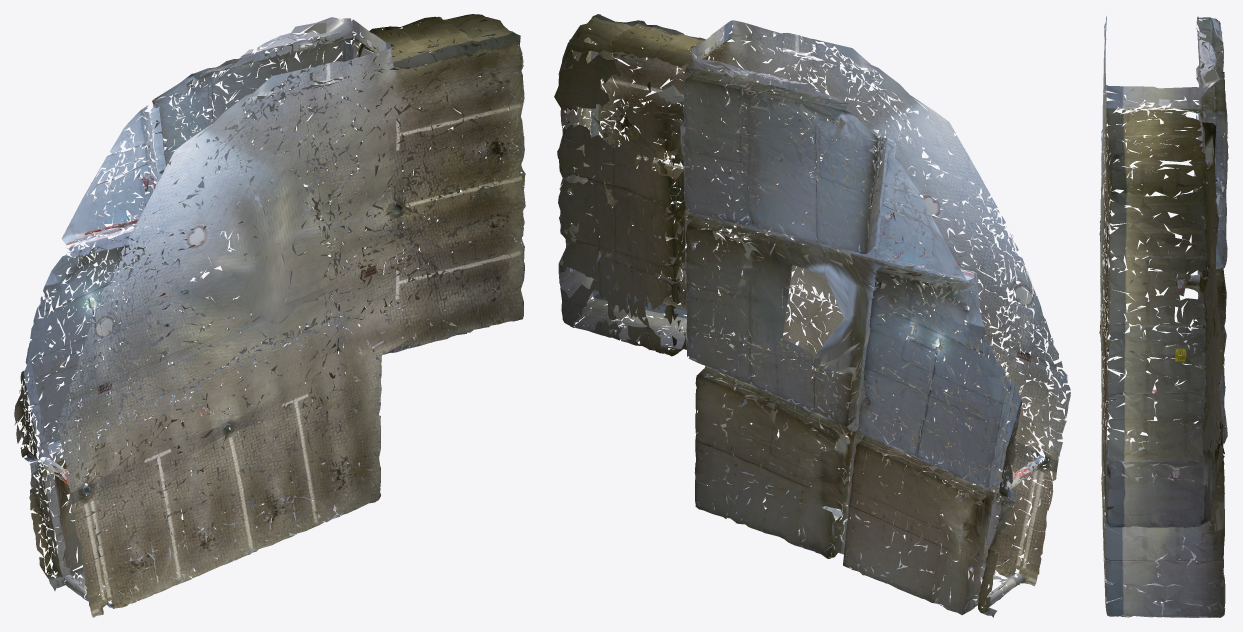
Rendered from parking-garage.glb.
3 renders of one model, left to right at view 1: azimuth 30°, elevation 25°; view 2: azimuth 150°, elevation 25°; view 3: azimuth 270°, elevation 25°, orthographic. The views are drawn at different scales.
Visible parts, largest first — view 1: Object_3, Object_2, Object_6, Object_7, Object_4, Object_8, Object_5, Object_9; view 2: Object_4, Object_3, Object_2, Object_6, Object_7, Object_8, Object_5, Object_9; view 3: Object_2, Object_6, Object_4, Object_3, Object_7, Object_8, Object_5, Object_9.
Boxes of the visible parts, box(x1,y1,x2,y2) form: Object_3: box(20, 32, 524, 593); Object_2: box(16, 16, 525, 617); Object_6: box(14, 14, 523, 608); Object_7: box(25, 24, 524, 602); Object_4: box(20, 22, 524, 594); Object_8: box(21, 21, 525, 601); Object_5: box(23, 19, 518, 606); Object_9: box(16, 16, 524, 607); Object_4: box(558, 18, 1070, 612); Object_3: box(557, 33, 1067, 607); Object_2: box(554, 23, 1070, 614); Object_6: box(559, 20, 1066, 617); Object_7: box(562, 14, 1065, 612); Object_8: box(558, 14, 1056, 612); Object_5: box(558, 21, 1064, 610); Object_9: box(559, 22, 1061, 613); Object_2: box(1100, 16, 1227, 617); Object_6: box(1100, 16, 1228, 617); Object_4: box(1099, 27, 1227, 616); Object_3: box(1099, 25, 1227, 617); Object_7: box(1100, 19, 1228, 600); Object_8: box(1099, 22, 1227, 610); Object_5: box(1100, 21, 1226, 609); Object_9: box(1100, 19, 1226, 617).
Size of the model in its own units: 13.75 by 13.88 by 2.72.
Materials: 2 (2 with a texture image).
